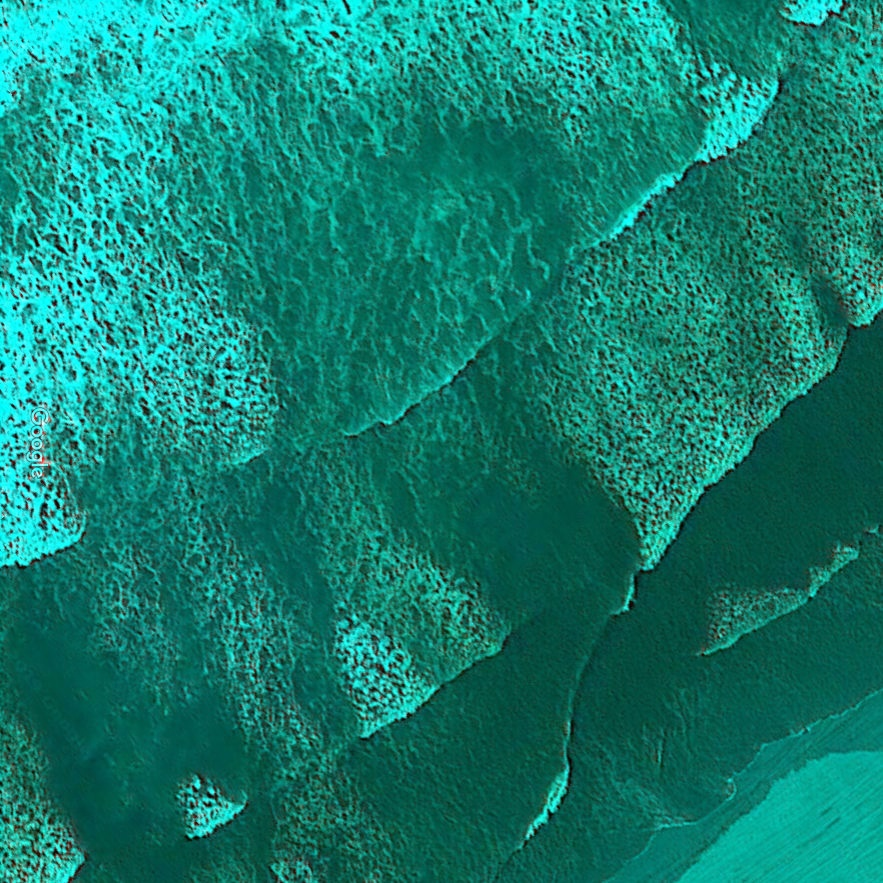rip_current: (187, 85, 680, 725)
